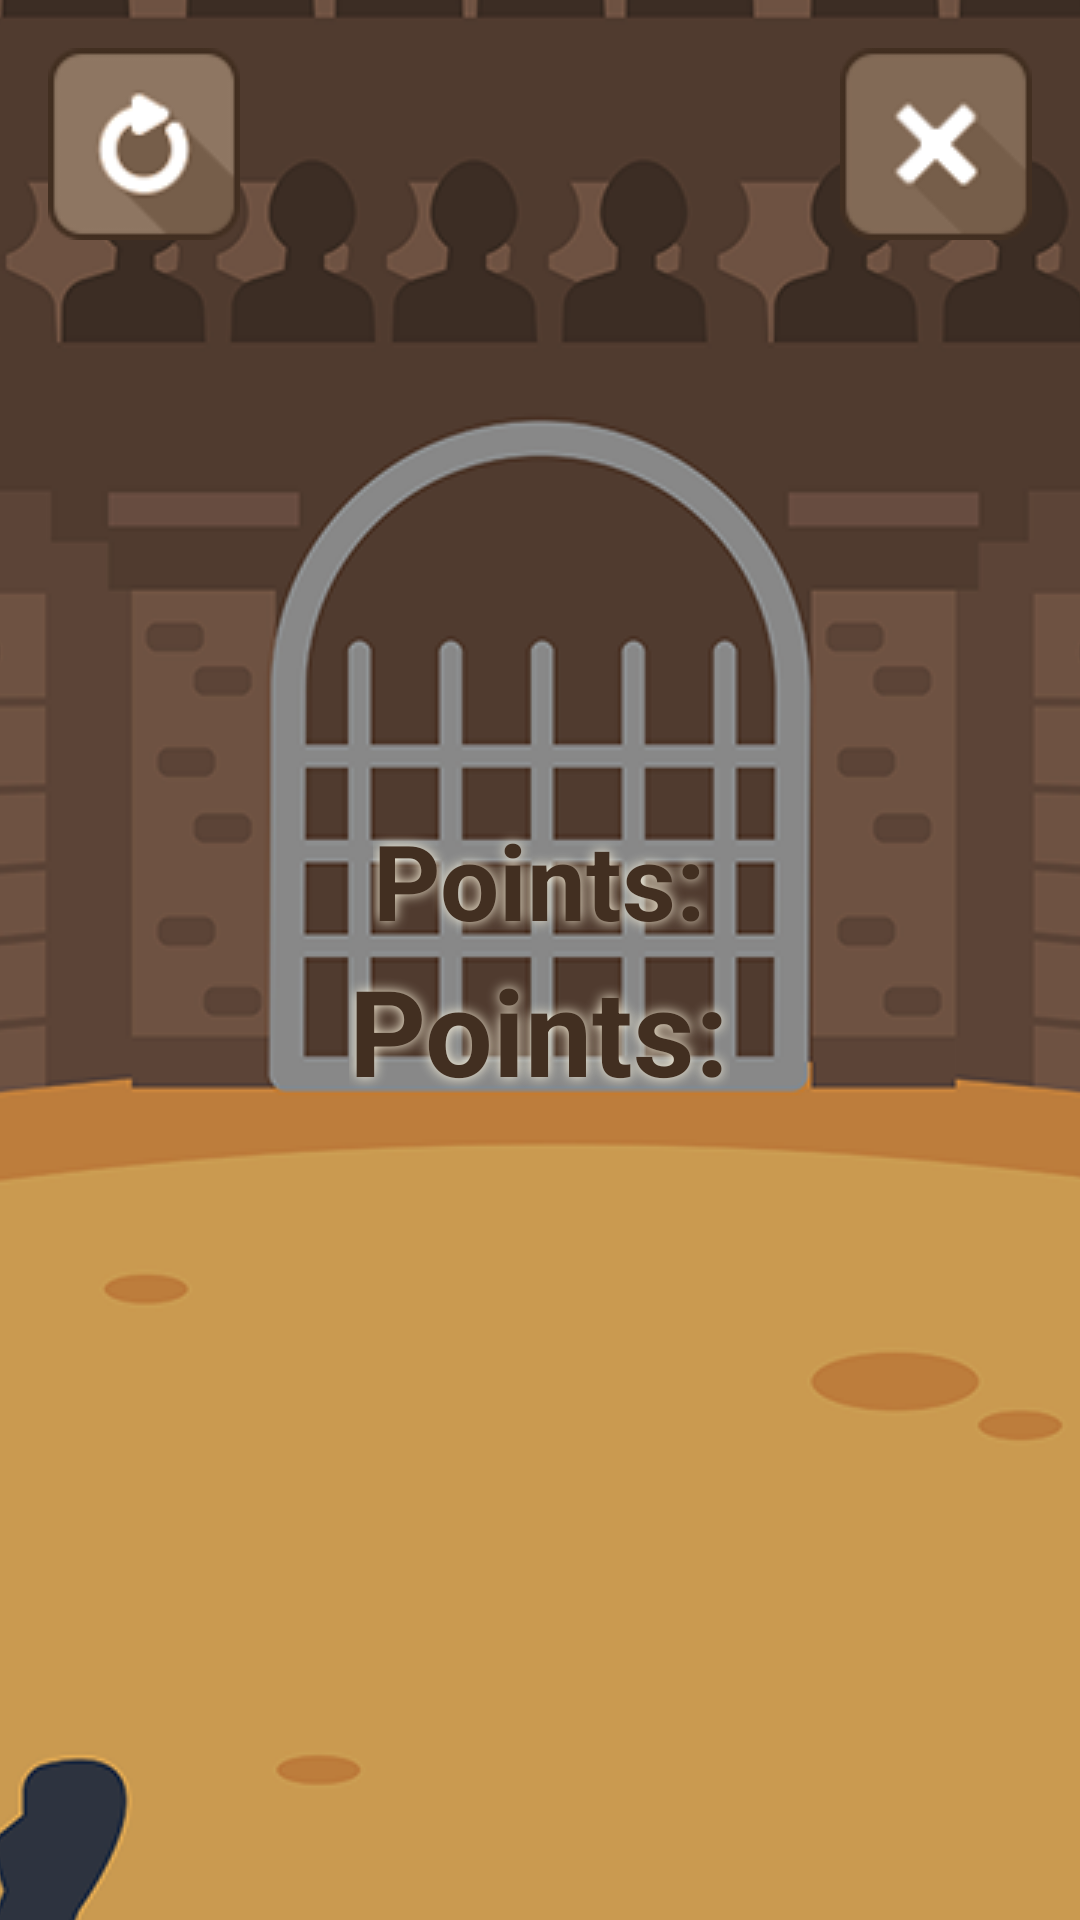

Where to tap for icons on this 1080x1920 app screen, as (x,y):
exit: (936,144)
restart: (144,144)
